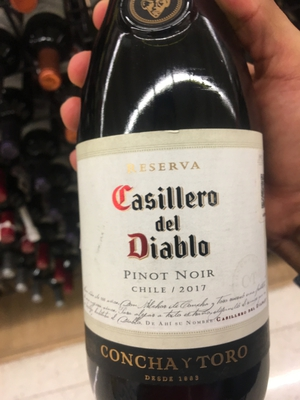casillero del diablo pinot noir: (72, 8, 275, 400)
